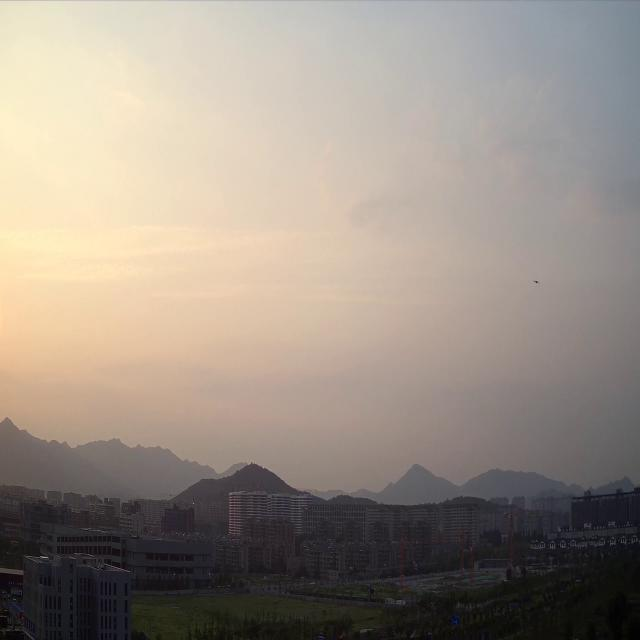drone: (534, 279, 540, 283)
